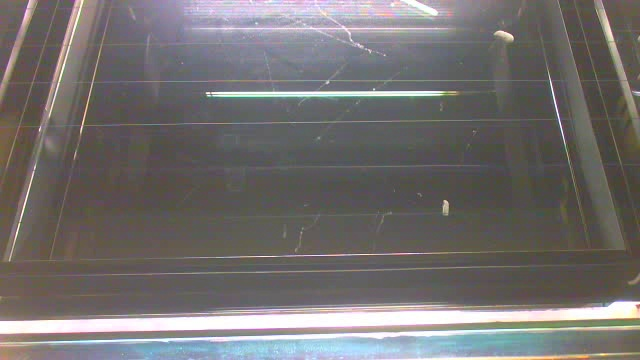Alfa: (402, 1, 439, 18), (495, 29, 515, 41), (441, 198, 450, 220)
